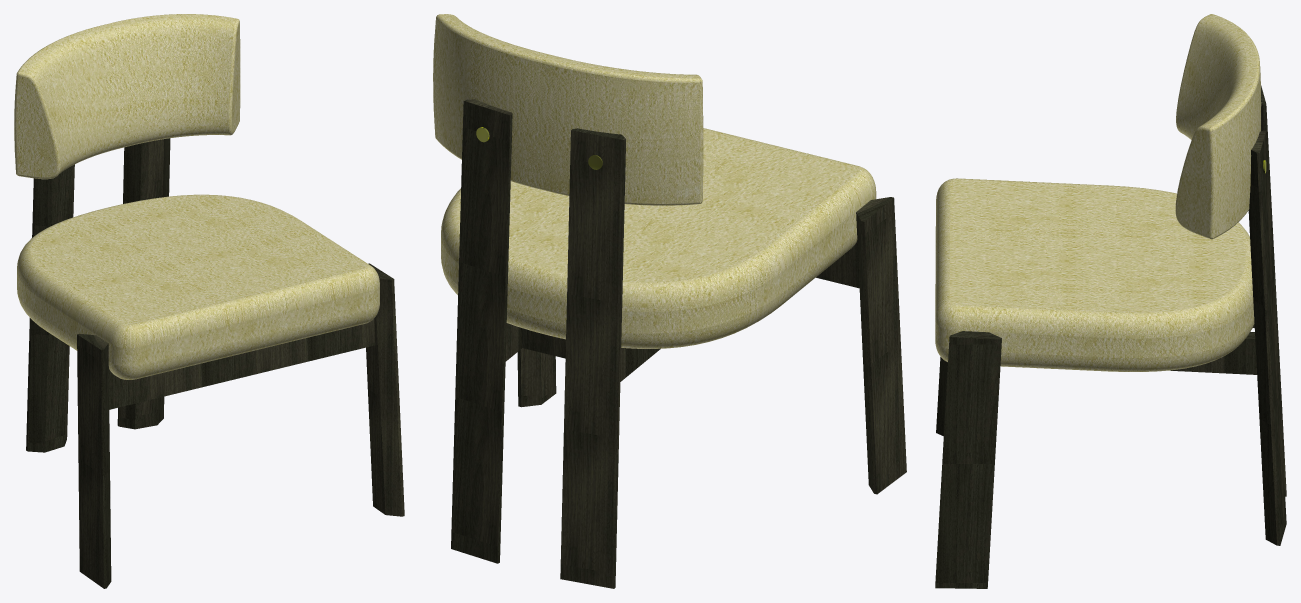
File: cassa-cadeira.glb
3 views of the same model, side by side, from view 1: azimuth 30°, elevation 25°; view 2: azimuth 150°, elevation 25°; view 3: azimuth 270°, elevation 25° (orthographic). The views are drawn at different scales.
Visible parts, largest first — view 1: 3DGeom-2, 3DGeom-6, 3DGeom-1; view 2: 3DGeom-2, 3DGeom-6, 3DGeom-1; view 3: 3DGeom-2, 3DGeom-6, 3DGeom-1.
Part boxes in pixels (bbox=[...]): 3DGeom-2: bbox=[14, 14, 379, 379]; 3DGeom-6: bbox=[26, 138, 404, 588]; 3DGeom-1: bbox=[109, 318, 375, 409]; 3DGeom-2: bbox=[433, 14, 876, 348]; 3DGeom-6: bbox=[451, 99, 906, 588]; 3DGeom-1: bbox=[505, 240, 859, 381]; 3DGeom-2: bbox=[935, 14, 1261, 371]; 3DGeom-6: bbox=[935, 85, 1286, 588]; 3DGeom-1: bbox=[1170, 323, 1257, 374].
Size of the model in its own units: 5.67 by 7.55 by 5.39.
3 materials, 3 textured.
